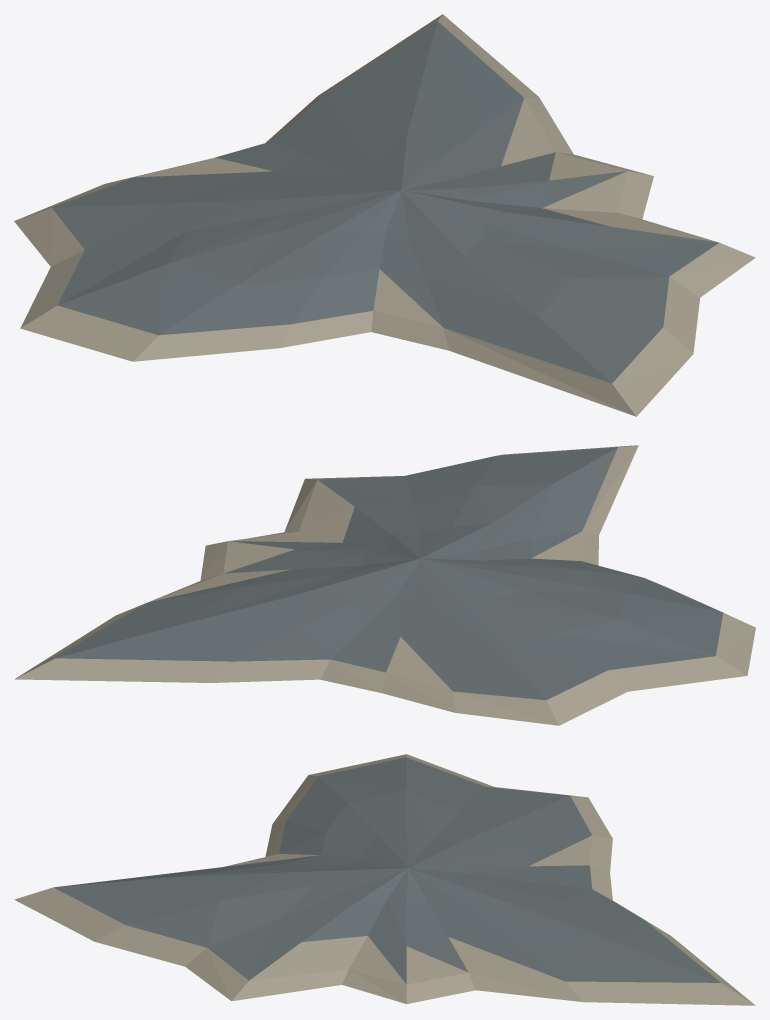
File: kingbreaker_reef_lod0.glb
The picture shows the model from 3 angles, top to bottom: view 1: azimuth 30°, elevation 25°; view 2: azimuth 150°, elevation 25°; view 3: azimuth 270°, elevation 25°; orthographic projection. The views are drawn at different scales.
Bounding box in the file's own units: 2.03 × 0.18 × 2.54.
